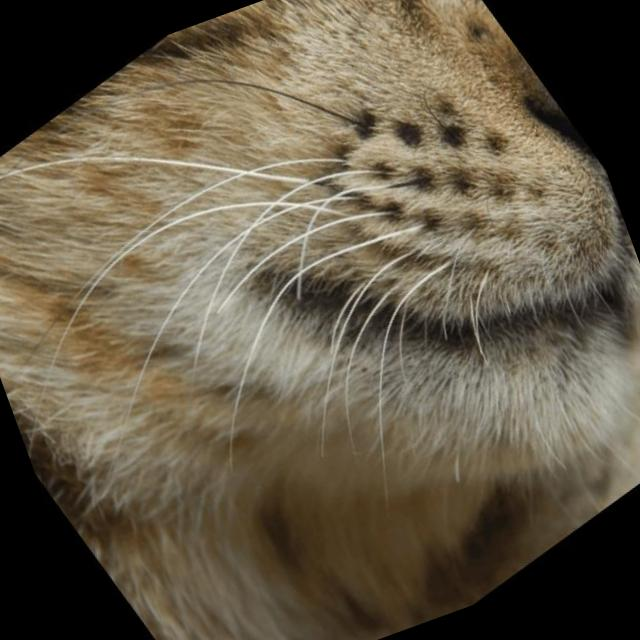Healthy skin: (122, 414, 401, 640), (0, 119, 196, 407), (312, 300, 544, 538), (230, 0, 419, 120), (99, 66, 234, 178)
